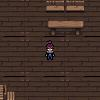Obstacle: (45, 19, 84, 37), (0, 82, 17, 100), (44, 0, 65, 14), (65, 0, 86, 14)
Victim: (43, 39, 58, 61)
